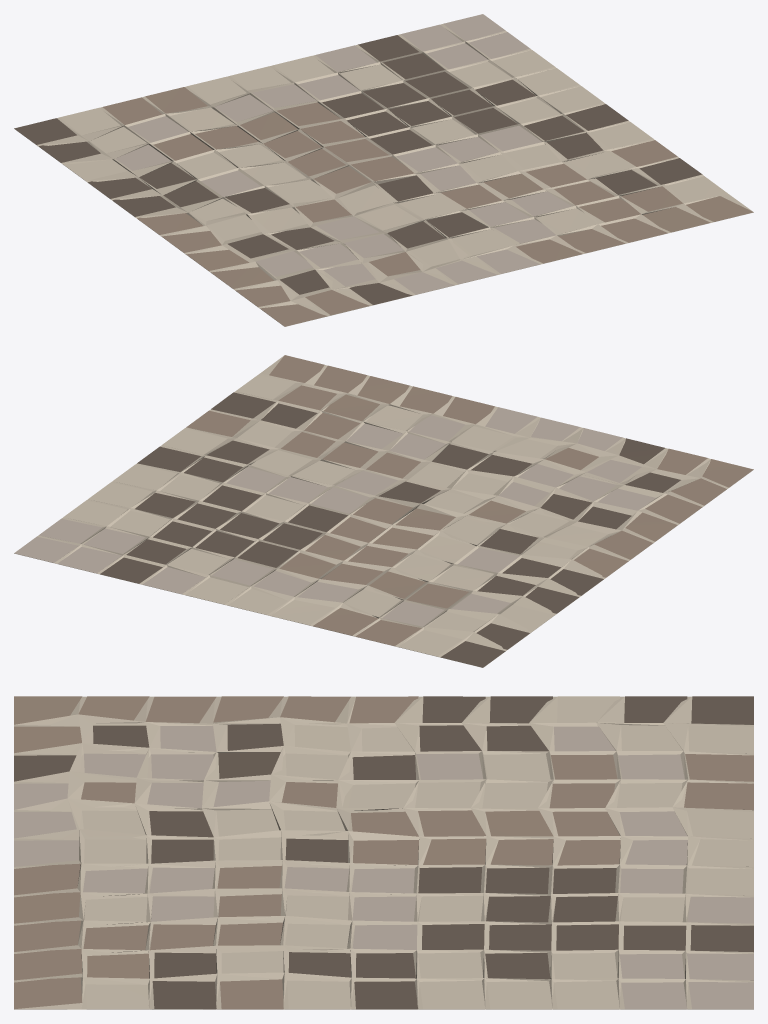
The model's file is RG-Dungeon_Floor-02.fbx.
3 views of the same model, one above another, from view 1: azimuth 30°, elevation 25°; view 2: azimuth 150°, elevation 25°; view 3: azimuth 270°, elevation 25° (orthographic). The views are drawn at different scales.
Parts seen in each view (by area): view 1: RG-Dungeon_Floor-02; view 2: RG-Dungeon_Floor-02; view 3: RG-Dungeon_Floor-02.
Boxes of the visible parts, x1,y1,x2,y2 form: RG-Dungeon_Floor-02: (14, 14, 753, 326); RG-Dungeon_Floor-02: (14, 355, 753, 667); RG-Dungeon_Floor-02: (14, 696, 753, 1009).
Size of the model in its own units: 30 by 0.265 by 30.
